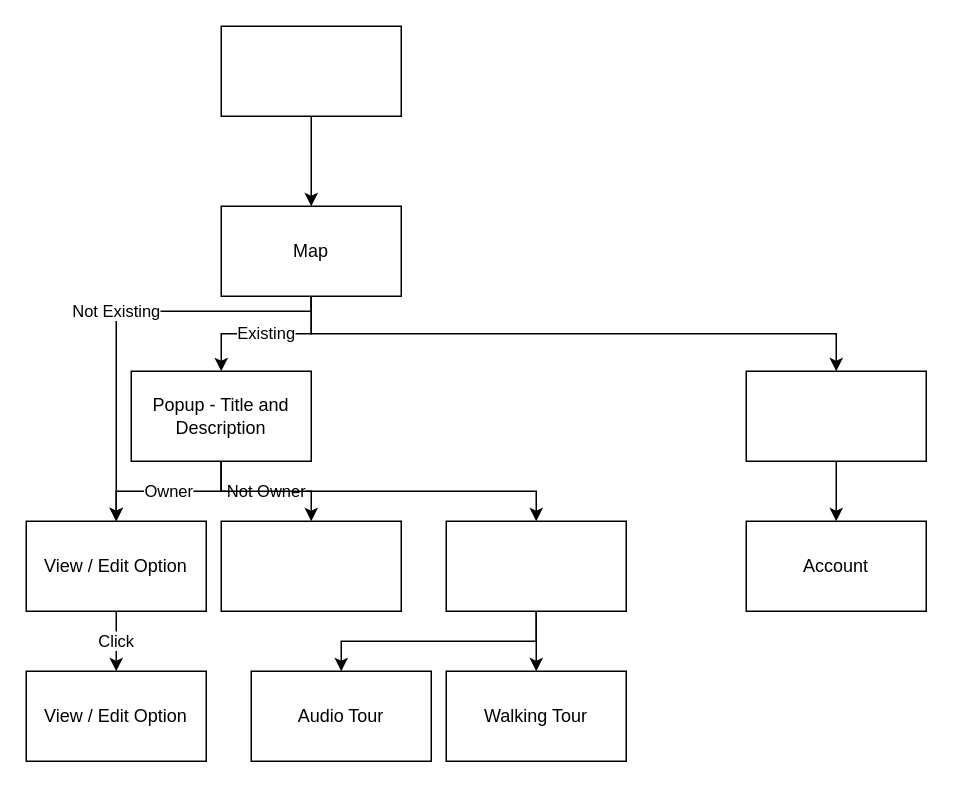
Image size: 953x788. Some labels were removed from this diagram. Here are the shapes that lost their labels. From the top down, the centre of each, then its label:
point 310,70: Login Screen
point 835,415: Menu
point 310,565: View (no edit)
point 535,565: Directions
